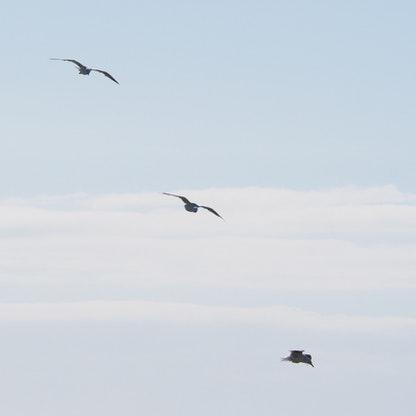bird: (48, 50, 122, 89), (157, 186, 223, 227), (274, 343, 322, 370)
